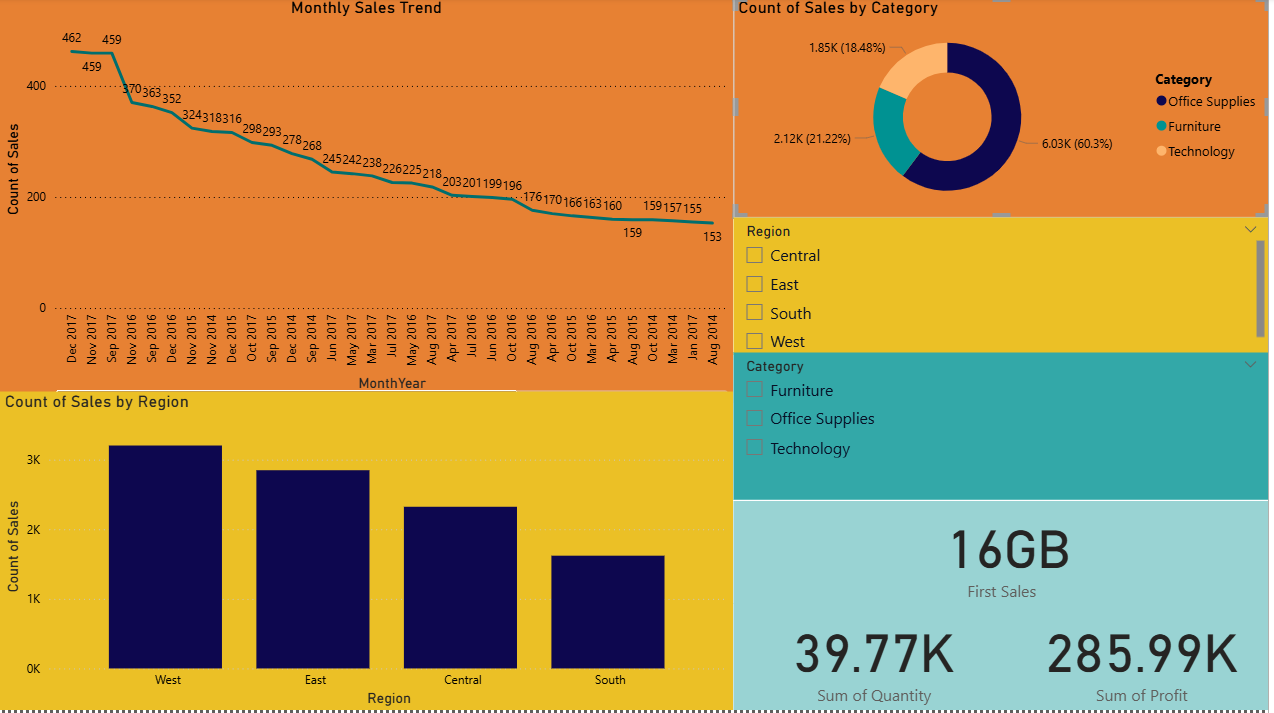

The page's visual inventory and layout, read from the dashboard file:
{"tool":"powerbi","page":{"name":"Page 1","canvas":[1280,720],"ordinal":0},"visuals":[{"type":"lineChart","title":"Monthly Sales Trend","fields":{"Category":["Superstore_Sales.MonthYear"],"Y":["CountNonNull(Superstore_Sales.Sales)"]},"box":[0,0,740,409.7],"z":0},{"type":"clusteredColumnChart","fields":{"Y":["CountNonNull(Superstore_Sales.Sales)"],"Category":["Superstore_Sales.Region"]},"box":[0,398.3,740,322.2],"z":1000},{"type":"donutChart","fields":{"Category":["Superstore_Sales.Category"],"Y":["CountNonNull(Superstore_Sales.Sales)"]},"box":[740,0,540.8,221.8],"z":2000},{"type":"slicer","fields":{"Values":["Superstore_Sales.Region"]},"box":[740,221.8,540.8,137.6],"z":2001},{"type":"slicer","fields":{"Values":["Superstore_Sales.Category"]},"box":[740,359.5,540.8,149],"z":2002},{"type":"card","fields":{"Values":["Sum(Superstore_Sales.Profit)"]},"box":[1023.4,612.1,257.5,108.5],"z":2003},{"type":"card","fields":{"Values":["Min(Superstore_Sales.Sales)"]},"box":[740,508.4,540.8,103.6],"z":2004},{"type":"card","fields":{"Values":["Sum(Superstore_Sales.Quantity)"]},"box":[740,612.1,283.4,108.5],"z":2005}]}

Visuals, with their boxes in screenshot pixels (x1, y1, x2, y2), scaled from the page's 1280x720 canvas onto the 1274x713 screenshot:
"Monthly Sales Trend" lineChart: detection(0, 0, 737, 406)
clusteredColumnChart - CountNonNull(Superstore_Sales.Sales) x Superstore_Sales.Region: detection(0, 394, 737, 712)
donutChart - Superstore_Sales.Category x CountNonNull(Superstore_Sales.Sales): detection(737, 0, 1273, 220)
slicer - Superstore_Sales.Region: detection(737, 220, 1273, 356)
slicer - Superstore_Sales.Category: detection(737, 356, 1273, 504)
card - Sum(Superstore_Sales.Profit): detection(1019, 606, 1273, 712)
card - Min(Superstore_Sales.Sales): detection(737, 503, 1273, 606)
card - Sum(Superstore_Sales.Quantity): detection(737, 606, 1019, 712)
